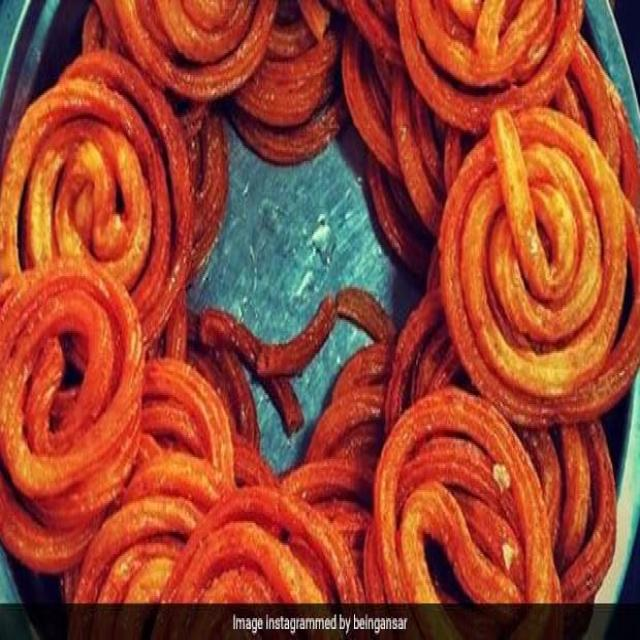jalebi: (1, 9, 640, 602)
